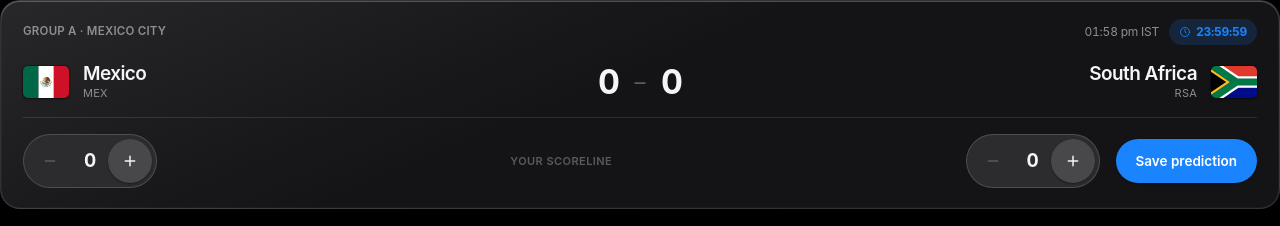
Scenario: MatchCard › animates a left-team goal from the left controls toward the right flag
Click the button named "increase mexico". click: [130, 161]
box: [108,139,152,183]
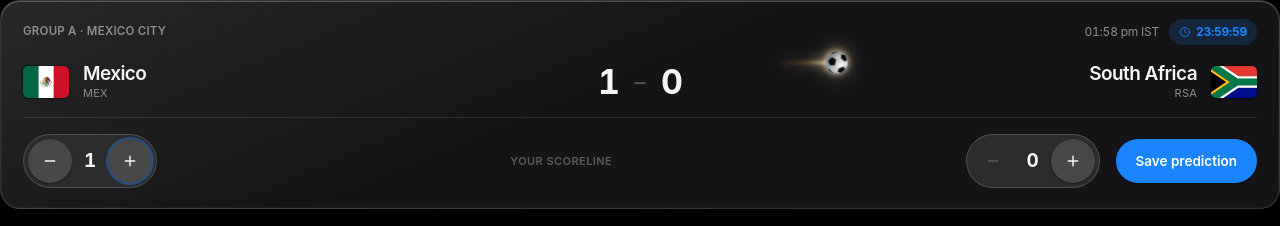
Expected: the text named "Mexico score: 1" is shown, [84,149,96,172]
